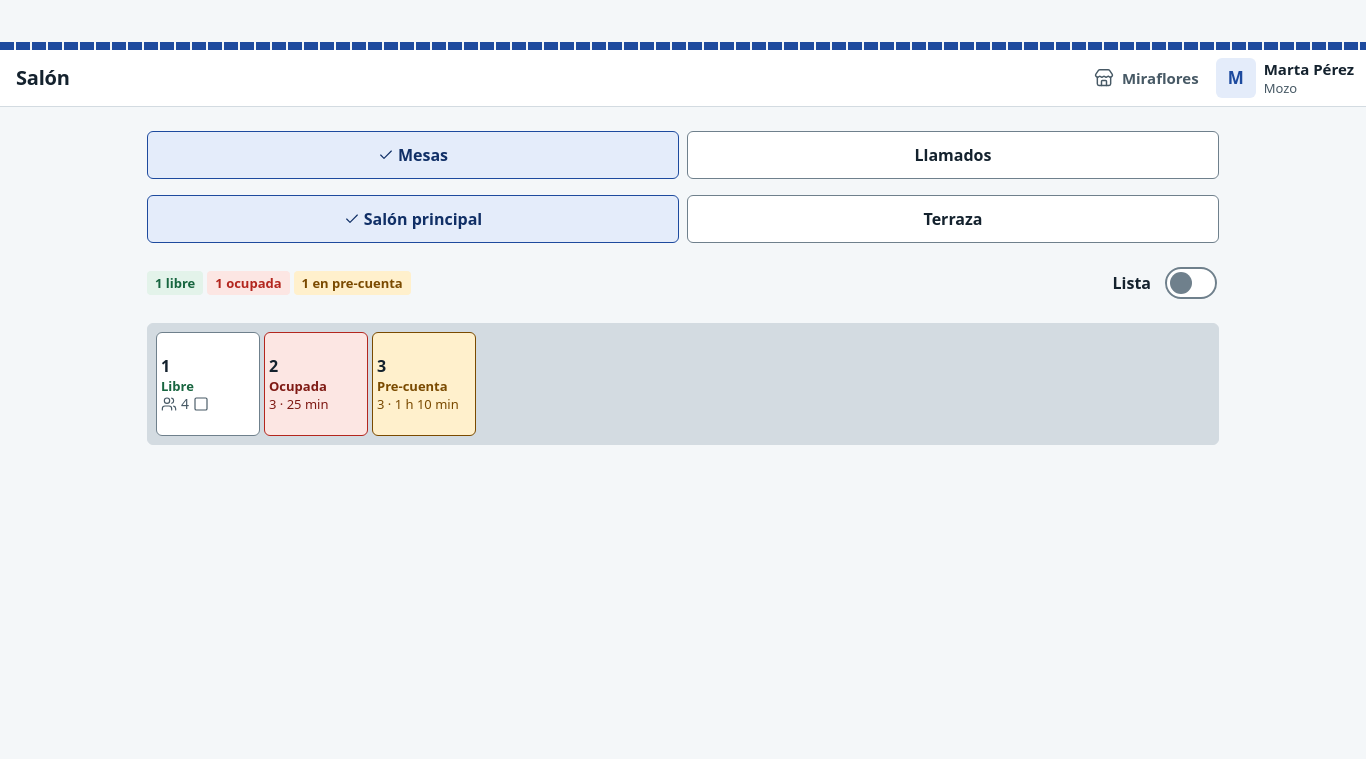
Scenario: Salón: tocar una mesa › una mesa ocupada lleva a su cuenta
(page scrolled)
Check: the table named "Mesas de Salón principal" is shown, box top-left (147, 323), bottom-right (1219, 445)
Step 1. Click the button "2 Ocupada 3 · 25 min" → {"x": 316, "y": 384}, box top-left (264, 332), bottom-right (368, 436)
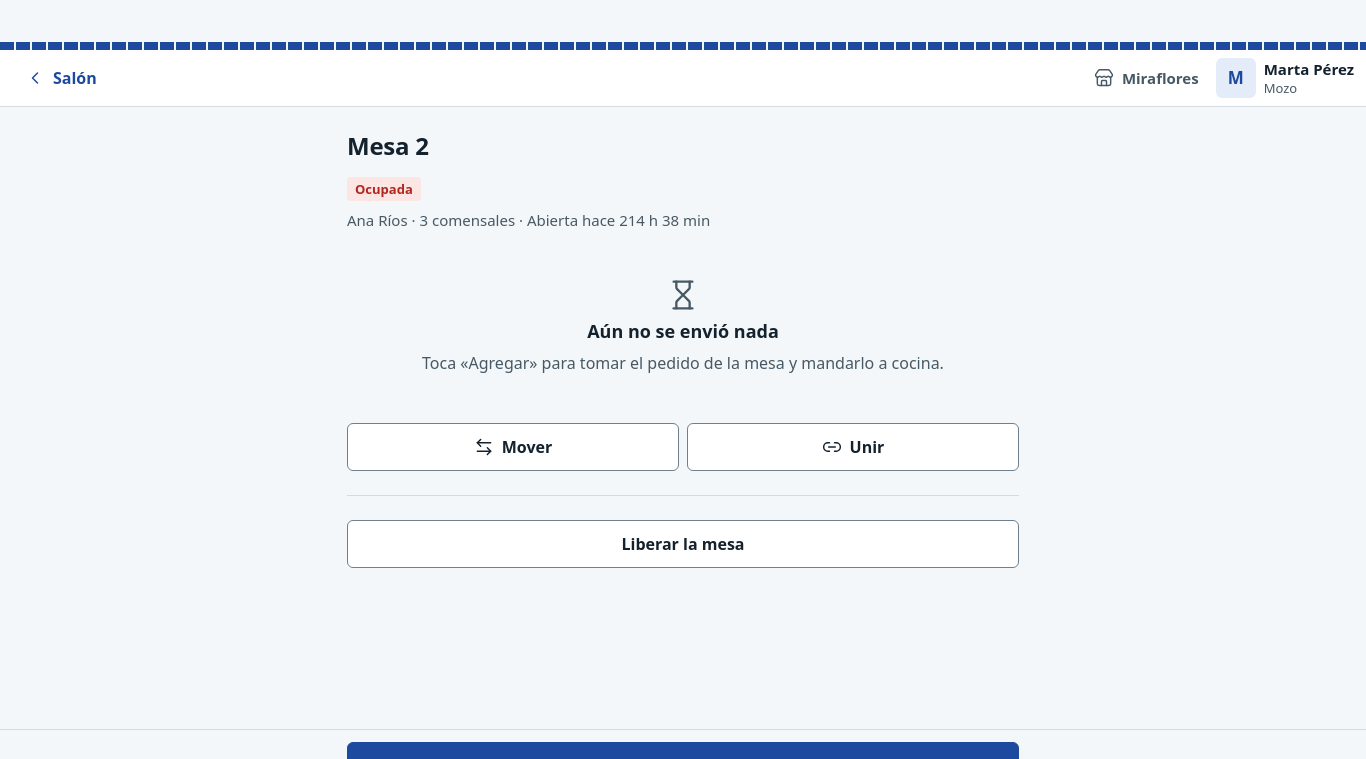
Check: the heading "Mesa 2" is shown, box top-left (347, 129), bottom-right (429, 162)
